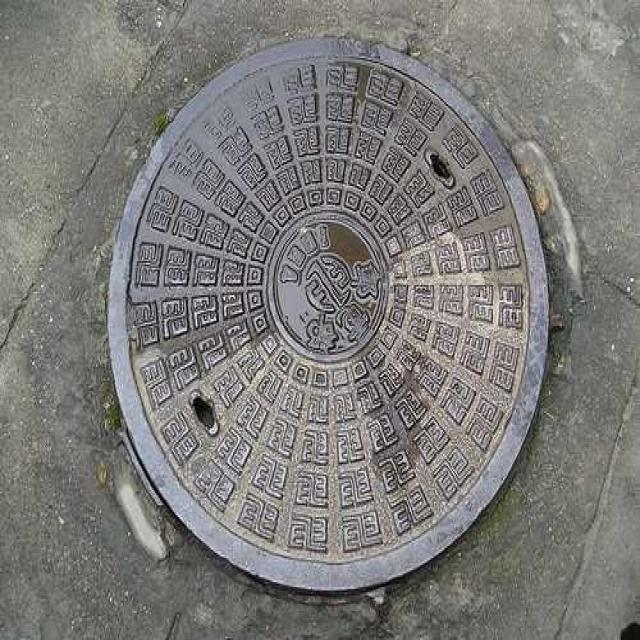manhole: (110, 40, 549, 591)
